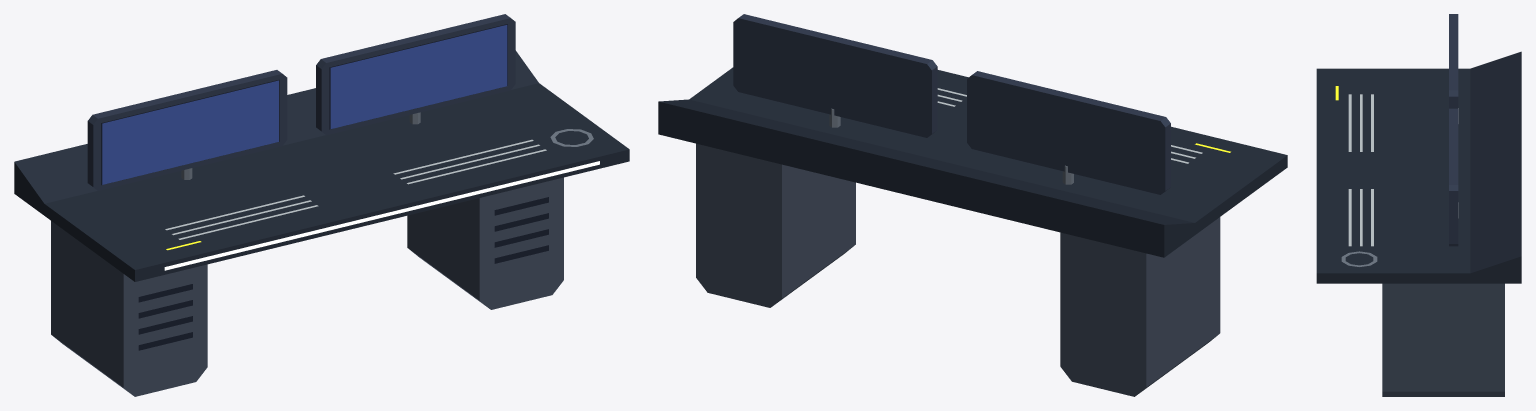
Rendered from fus_diagnostic_console.glb.
3 views of the same model, side by side, from view 1: azimuth 30°, elevation 25°; view 2: azimuth 150°, elevation 25°; view 3: azimuth 270°, elevation 25° (orthographic). The views are drawn at different scales.
Visible parts, largest first — view 1: sloped_instrument_deck, console_pedestal, print, bezel, cooling_louver, backlit_key_row, front_edge_light, cup_holder; view 2: sloped_instrument_deck, console_pedestal, bezel; view 3: sloped_instrument_deck, console_pedestal, bezel, backlit_key_row, cup_holder.
Boxes of the visible parts, box(x1,y1,x2,y2) form: sloped_instrument_deck: box(14, 50, 629, 281); console_pedestal: box(51, 177, 563, 396); print: box(102, 25, 507, 184); bezel: box(87, 14, 515, 190); cooling_louver: box(101, 24, 548, 350); backlit_key_row: box(165, 139, 546, 239); front_edge_light: box(164, 161, 599, 270); cup_holder: box(181, 112, 593, 179); sloped_instrument_deck: box(658, 67, 1287, 257); console_pedestal: box(696, 143, 1220, 396); bezel: box(733, 14, 1170, 194); sloped_instrument_deck: box(1316, 51, 1521, 283); console_pedestal: box(1382, 283, 1504, 396); bezel: box(1449, 14, 1458, 246); backlit_key_row: box(1348, 94, 1373, 246); cup_holder: box(1341, 108, 1458, 266).
Bounding box in the file's own units: 2.6 × 1.25 × 1.1.
